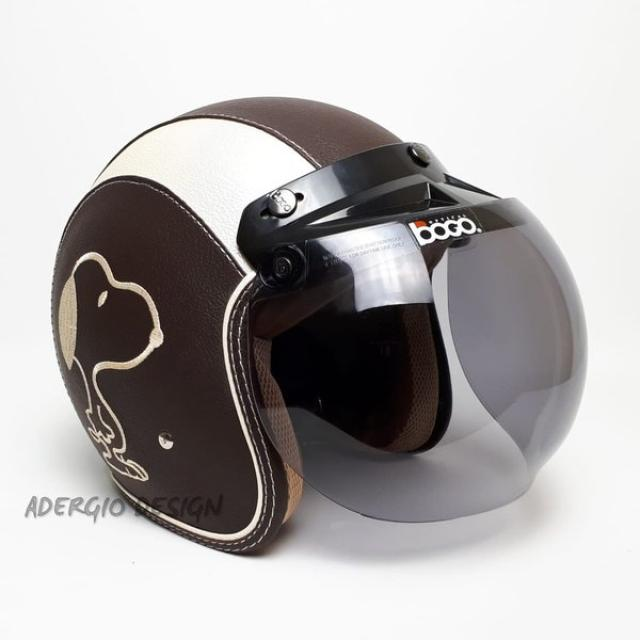Helm: (46, 90, 597, 558)
